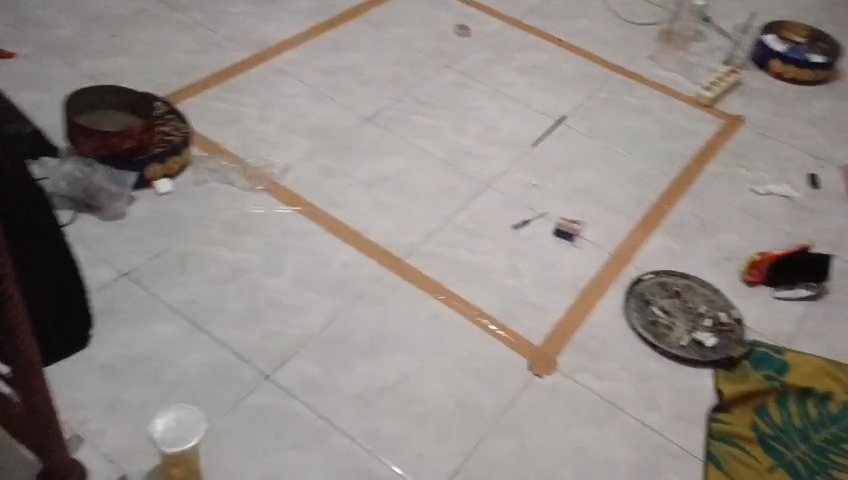floor marking: (268, 0, 743, 377), (170, 0, 389, 101), (194, 133, 250, 167)
